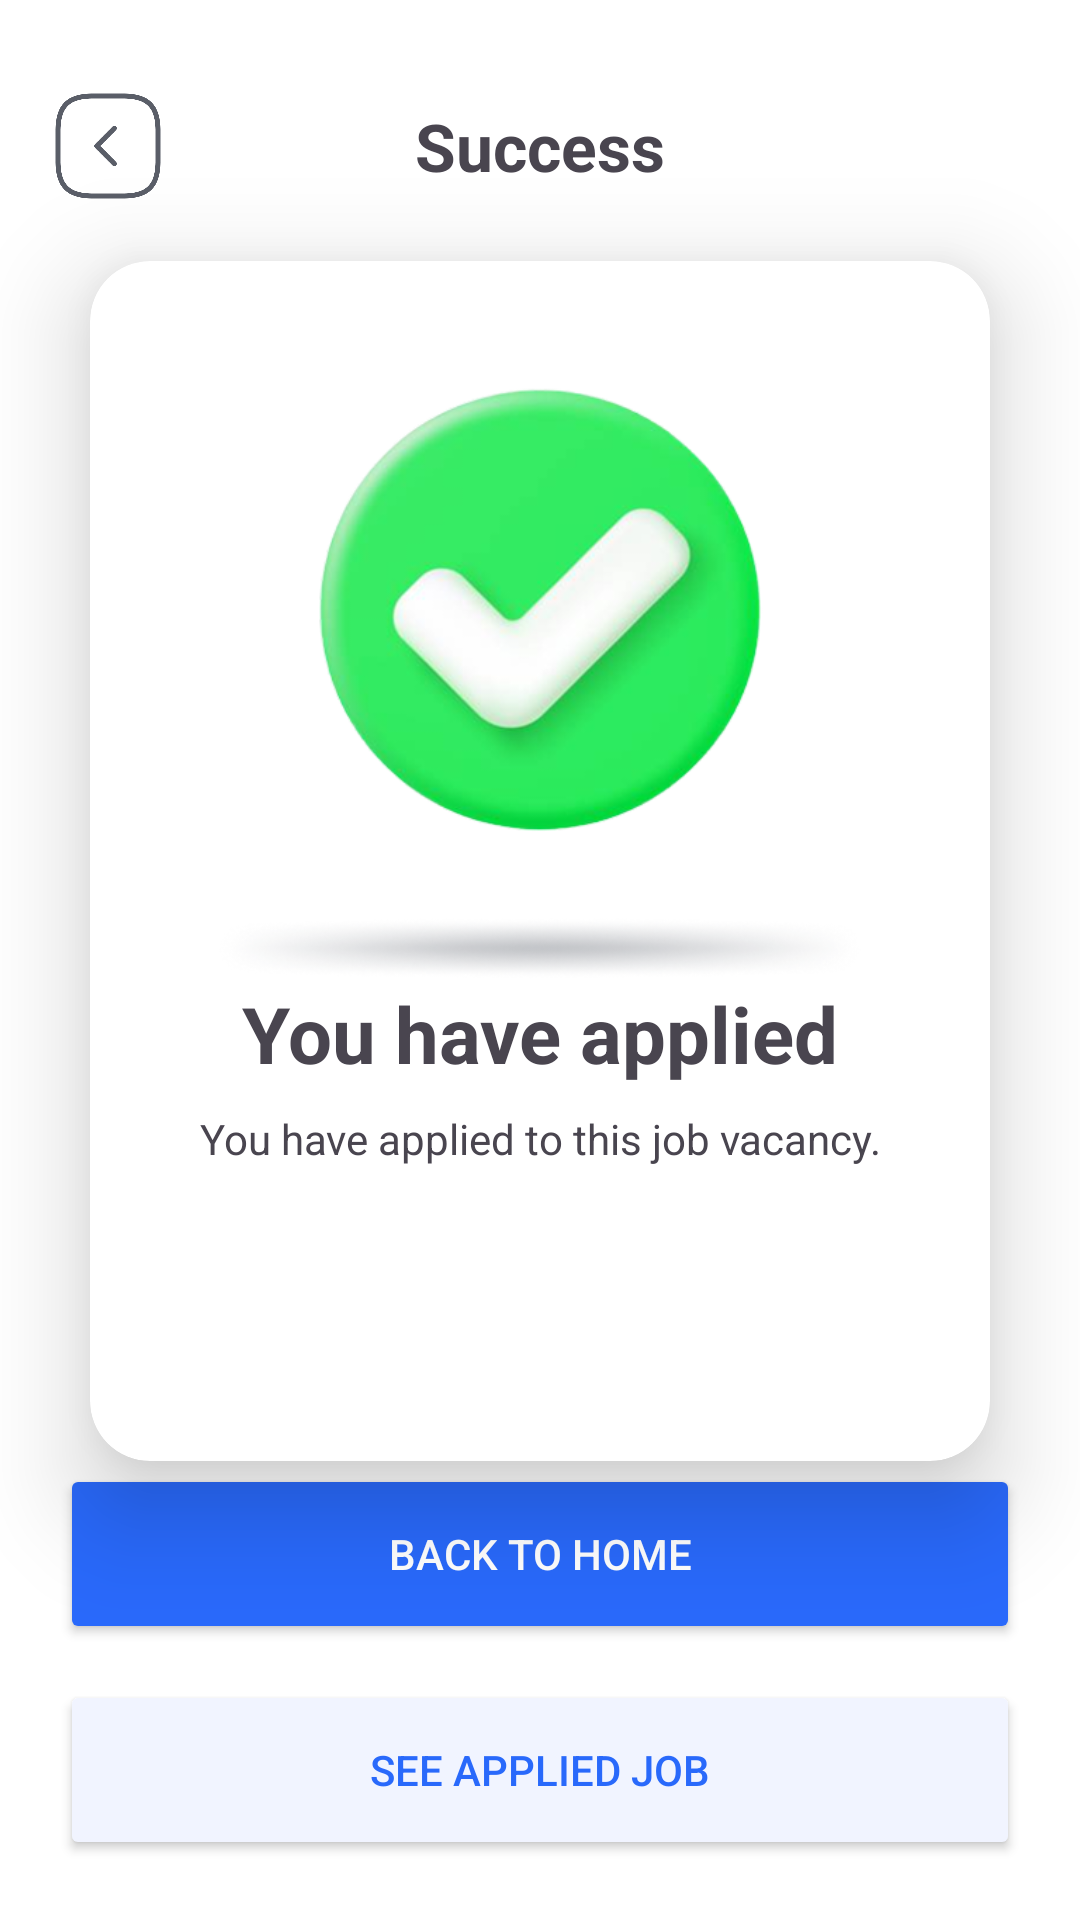

Screen size 1080x1920. Icon name, then its center in pixels as point (x, y):
arrow back: point (108, 146)
